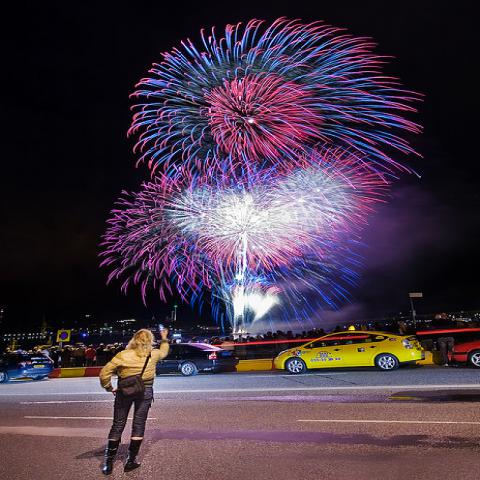car: (273, 330, 421, 373), (156, 343, 240, 377), (0, 350, 56, 383), (451, 340, 479, 368)
